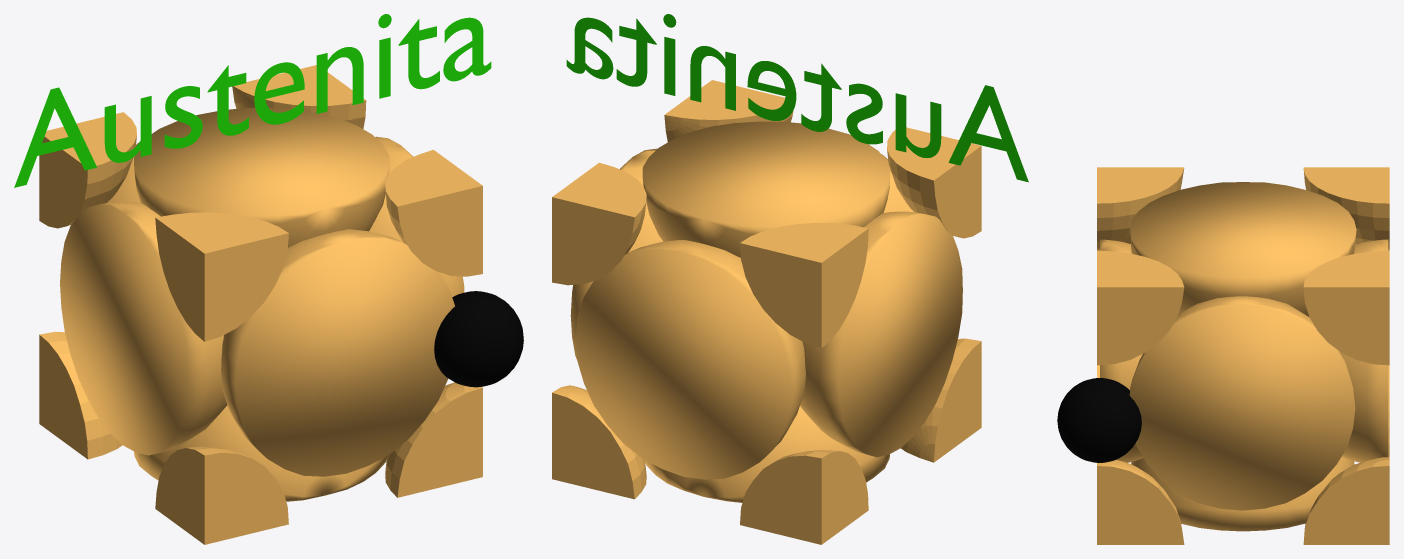
The model's file is austenita.glb.
3 views of the same model, side by side, from view 1: azimuth 30°, elevation 25°; view 2: azimuth 150°, elevation 25°; view 3: azimuth 270°, elevation 25° (orthographic). The views are drawn at different scales.
Visible parts, largest first — view 1: Sphere.415_Sphere.001, Sphere.414_Sphere.001, Sphere.418_Sphere.001, Text, Sphere.407_Sphere.001, Sphere.406_Sphere.001, Sphere.409_Sphere.001, Sphere.408_Sphere.001, Sphere, Sphere.403_Sphere.001, Sphere.402_Sphere.001, Sphere.417_Sphere.001 (+3 smaller); view 2: Sphere.416_Sphere.001, Sphere.414_Sphere.001, Sphere.418_Sphere.001, Text, Sphere.403_Sphere.001, Sphere.402_Sphere.001, Sphere.405_Sphere.001, Sphere.404_Sphere.001, Sphere.407_Sphere.001, Sphere.406_Sphere.001, Sphere.417_Sphere.001, Sphere.409_Sphere.001 (+1 smaller); view 3: Sphere.413_Sphere.001, Sphere.418_Sphere.001, Sphere.405_Sphere.001, Sphere.409_Sphere.001, Sphere.404_Sphere.001, Sphere.408_Sphere.001, Sphere, Sphere.403_Sphere.001, Sphere.407_Sphere.001, Sphere.417_Sphere.001, Sphere.416_Sphere.001, Sphere.415_Sphere.001.
Boxes of the visible parts, bbox=[...] form: Sphere.415_Sphere.001: bbox=[221, 229, 454, 476]; Sphere.414_Sphere.001: bbox=[60, 201, 227, 455]; Sphere.418_Sphere.001: bbox=[134, 107, 389, 247]; Text: bbox=[14, 14, 491, 187]; Sphere.407_Sphere.001: bbox=[155, 212, 288, 341]; Sphere.406_Sphere.001: bbox=[155, 446, 288, 544]; Sphere.409_Sphere.001: bbox=[385, 149, 482, 276]; Sphere.408_Sphere.001: bbox=[385, 382, 482, 497]; Sphere: bbox=[434, 291, 523, 387]; Sphere.403_Sphere.001: bbox=[39, 112, 136, 228]; Sphere.402_Sphere.001: bbox=[39, 331, 122, 459]; Sphere.417_Sphere.001: bbox=[134, 405, 386, 501]; Sphere.416_Sphere.001: bbox=[576, 240, 805, 479]; Sphere.414_Sphere.001: bbox=[800, 211, 962, 457]; Sphere.418_Sphere.001: bbox=[642, 121, 890, 257]; Text: bbox=[566, 14, 1028, 182]; Sphere.403_Sphere.001: bbox=[740, 223, 868, 348]; Sphere.402_Sphere.001: bbox=[740, 450, 868, 544]; Sphere.405_Sphere.001: bbox=[552, 162, 646, 285]; Sphere.404_Sphere.001: bbox=[552, 385, 646, 499]; Sphere.407_Sphere.001: bbox=[887, 127, 981, 238]; Sphere.406_Sphere.001: bbox=[901, 338, 981, 462]; Sphere.417_Sphere.001: bbox=[645, 406, 889, 502]; Sphere.409_Sphere.001: bbox=[664, 80, 793, 141]; Sphere.413_Sphere.001: bbox=[1129, 296, 1355, 510]; Sphere.418_Sphere.001: bbox=[1130, 182, 1356, 316]; Sphere.405_Sphere.001: bbox=[1303, 250, 1389, 365]; Sphere.409_Sphere.001: bbox=[1097, 250, 1184, 365]; Sphere.404_Sphere.001: bbox=[1303, 457, 1389, 544]; Sphere.408_Sphere.001: bbox=[1097, 460, 1184, 544]; Sphere: bbox=[1057, 378, 1141, 462]; Sphere.403_Sphere.001: bbox=[1303, 167, 1389, 250]; Sphere.407_Sphere.001: bbox=[1097, 167, 1184, 250]; Sphere.417_Sphere.001: bbox=[1131, 457, 1354, 531]; Sphere.416_Sphere.001: bbox=[1339, 239, 1388, 462]; Sphere.415_Sphere.001: bbox=[1100, 239, 1143, 462].
Size of the model in its own units: 5.91 by 5.02 by 4.03.
